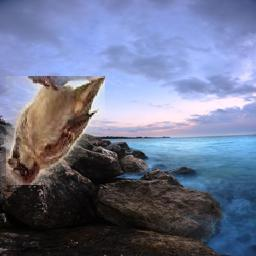Sparrow: (7, 77, 106, 186)
